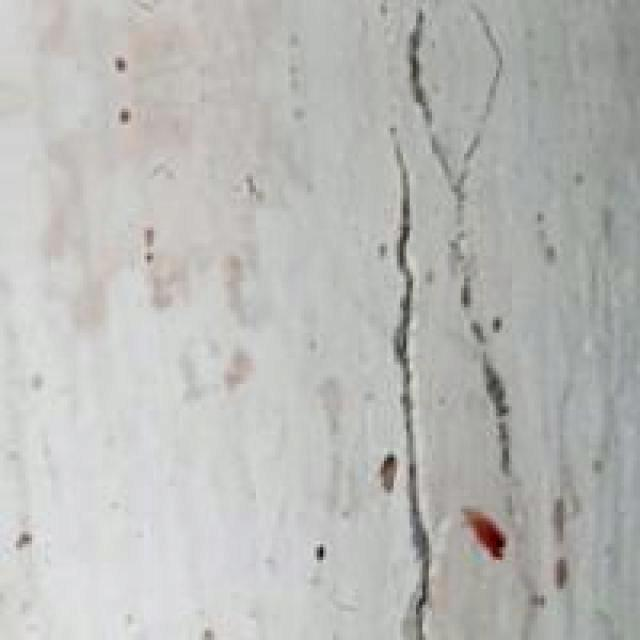crack: (380, 2, 522, 632)
